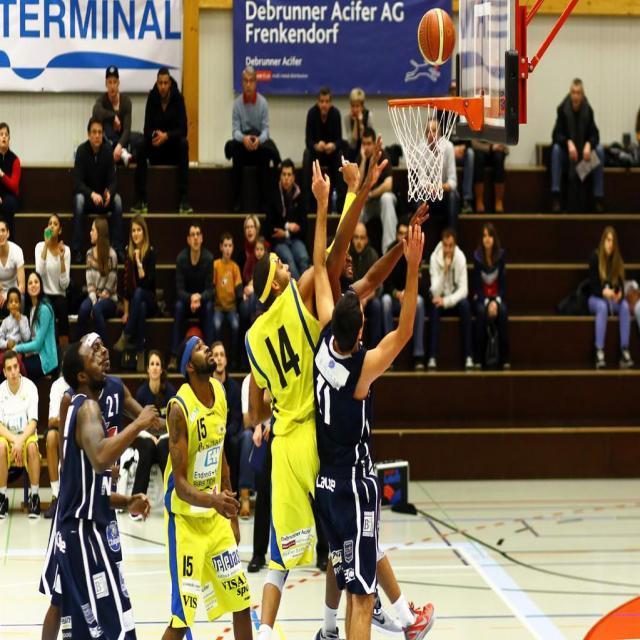rim: (419, 6, 454, 64)
